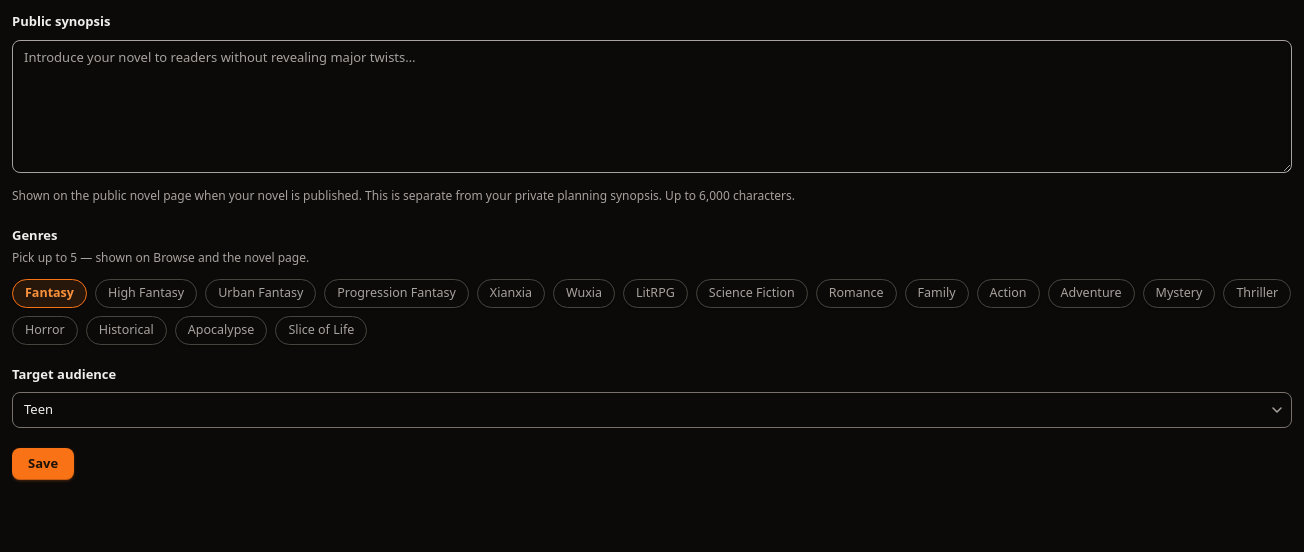
Test: novel discovery editor › waits for the sibling write after a failure before permitting retry
The width and height of the screenshot is (1304, 552).
Click the button with test id "discovery-save".
click(43, 464)  # box 12,448 -> 74,480
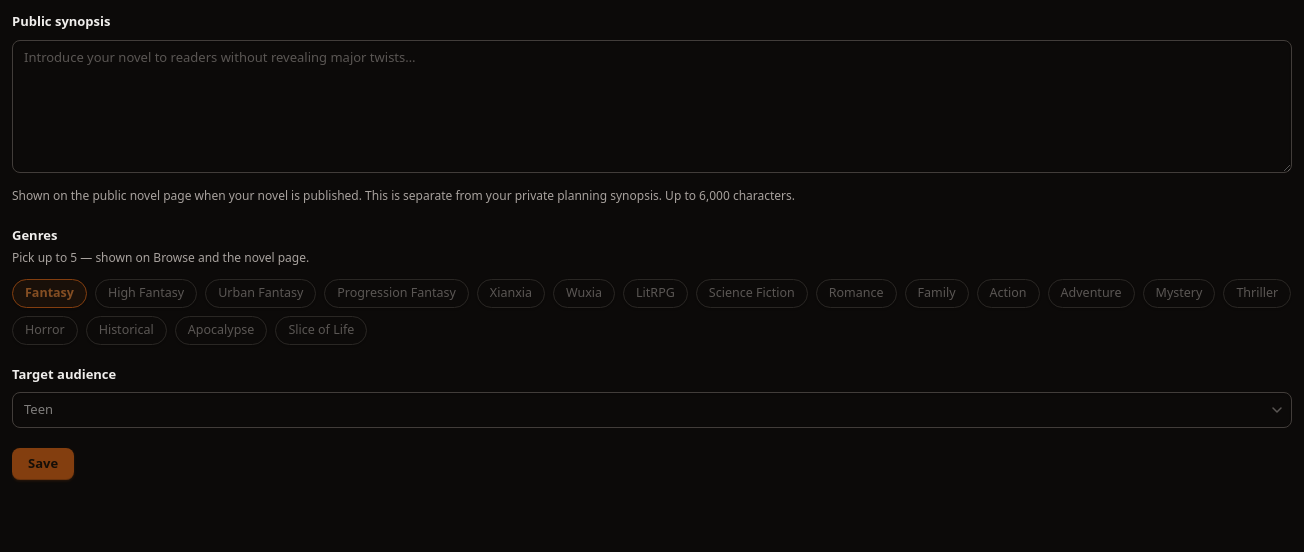
Expected: the button with test id "discovery-save" is disabled
Click the button with test id "discovery-save".
click(43, 464)  # box 12,448 -> 74,480
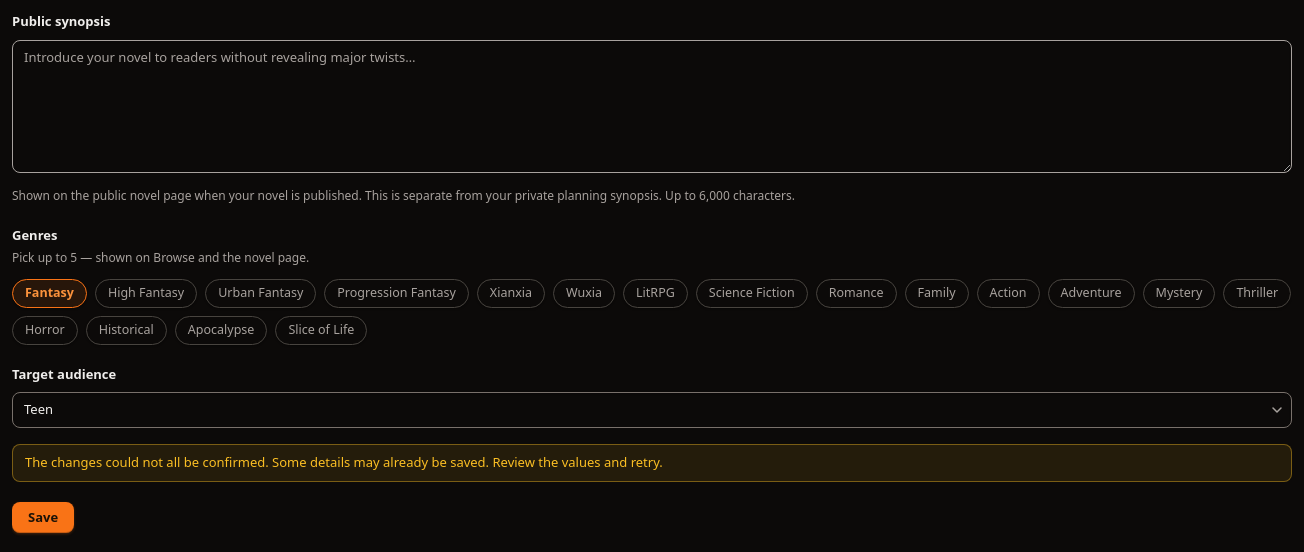
Expected: the button with test id "discovery-save" is enabled, 12,502 -> 74,533
Expected: the message with test id "discovery-error" shows "The changes could not all be confirmed. Some details may already be saved. Review the values and retry.", 25,453 -> 663,471
